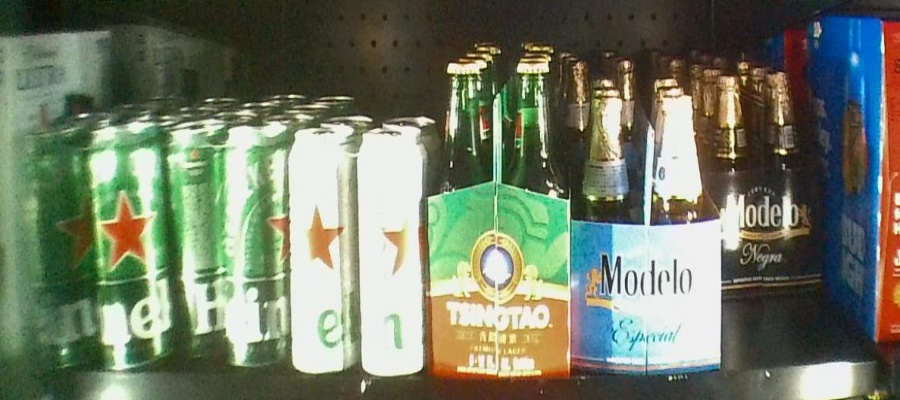bottle: (423, 60, 570, 384), (573, 80, 720, 376), (15, 127, 167, 363), (291, 127, 424, 379), (165, 126, 283, 370), (717, 78, 823, 295)
